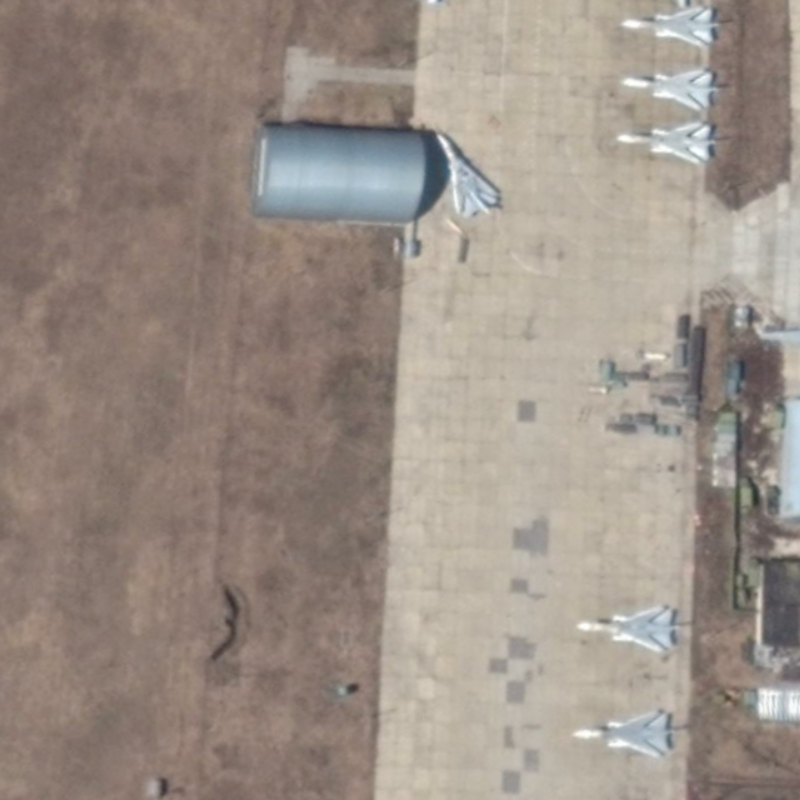A20: (434, 131, 500, 219), (570, 709, 678, 759), (575, 604, 680, 654), (615, 120, 717, 165), (620, 66, 719, 112), (620, 5, 720, 48)
